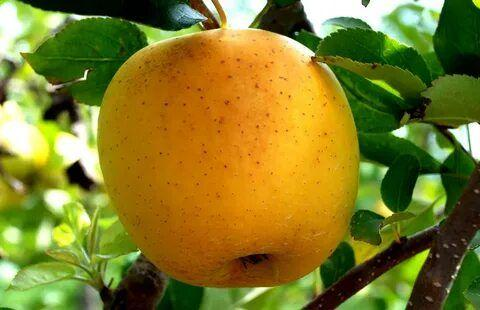Apple: (98, 30, 359, 288)
